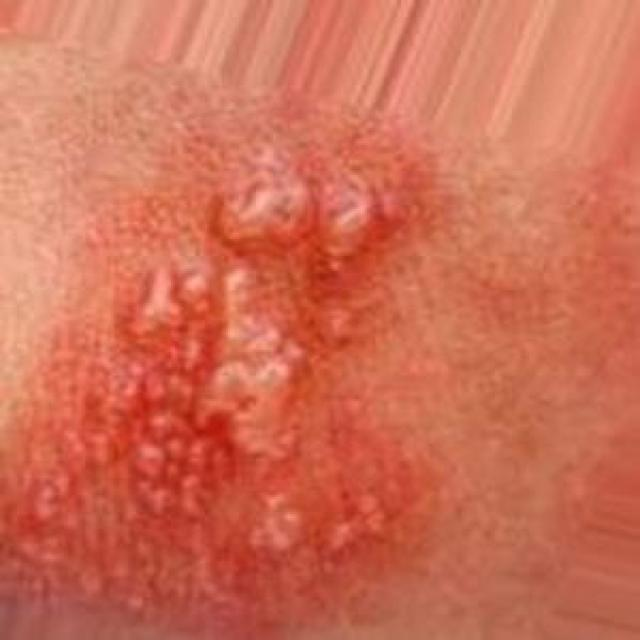Shingles: (0, 148, 426, 582)
